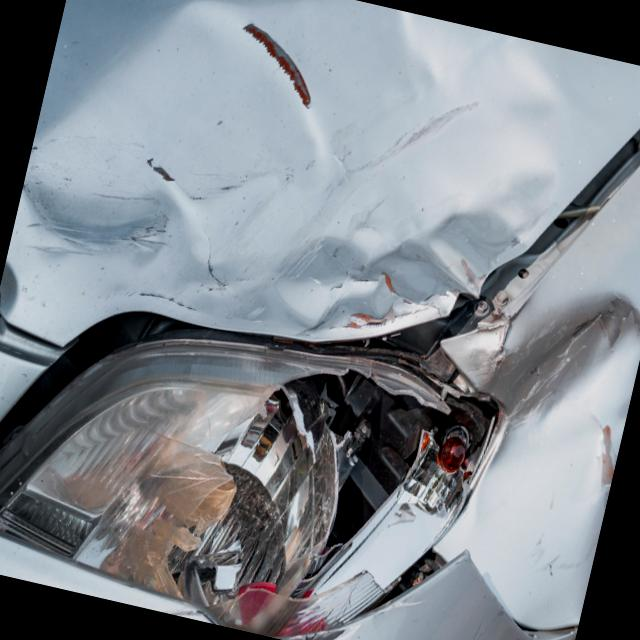Cabossage: (264, 153, 527, 372), (485, 83, 488, 85)
Dechirure: (277, 206, 539, 398), (335, 507, 469, 640), (195, 228, 237, 293)
Phare abime: (141, 337, 507, 640)
Rayure: (5, 148, 191, 298), (315, 255, 452, 363), (216, 4, 331, 132)
